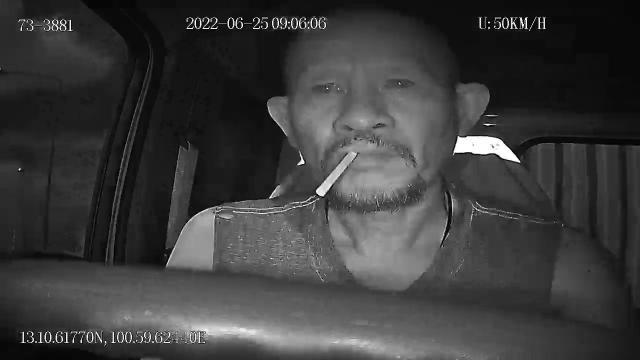SafeDriving: (303, 68, 354, 100), (374, 66, 424, 96)
Smoking: (313, 150, 357, 197)
